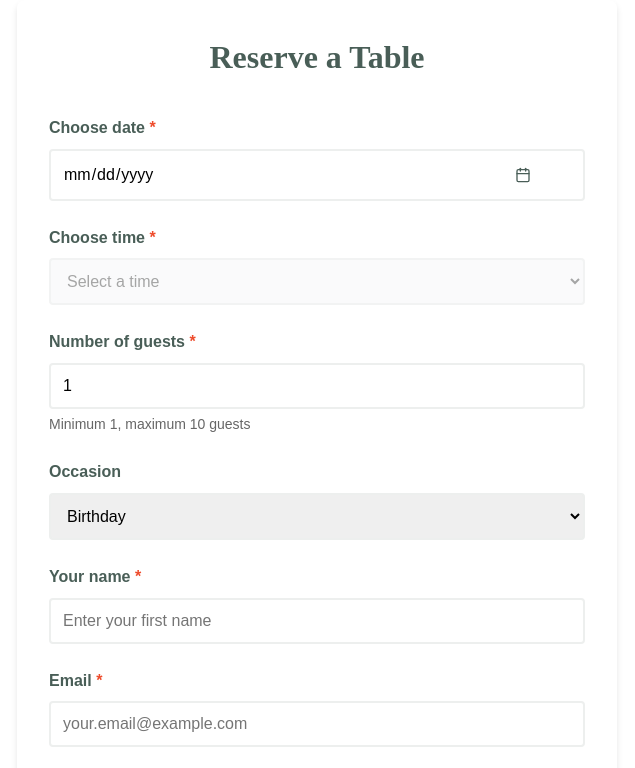
Test: BookingForm › validates email format
Type "invalid-email" into the field labelled "Email *". click: x=317, y=724
box: top-left (49, 701), bottom-right (585, 747)
(page scrolled)
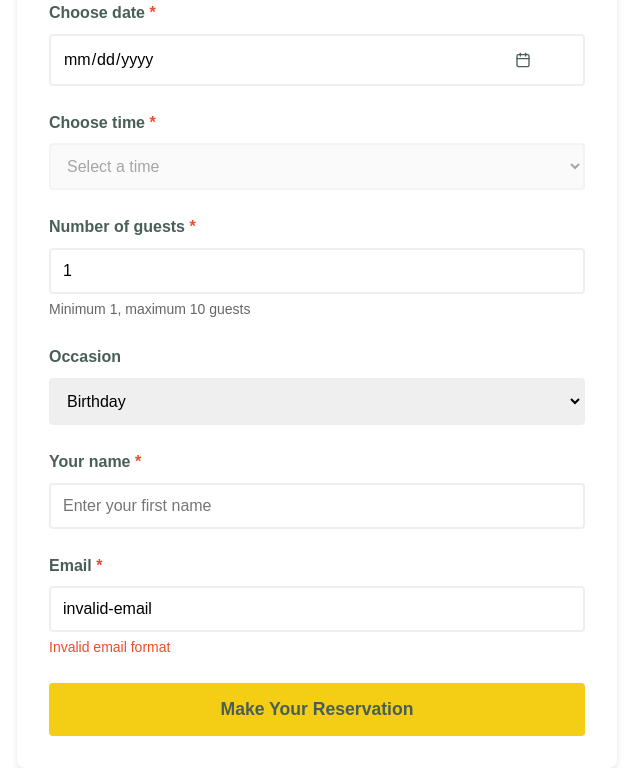
Expected: the text "Invalid email format" is shown, top-left (49, 639), bottom-right (170, 655)
